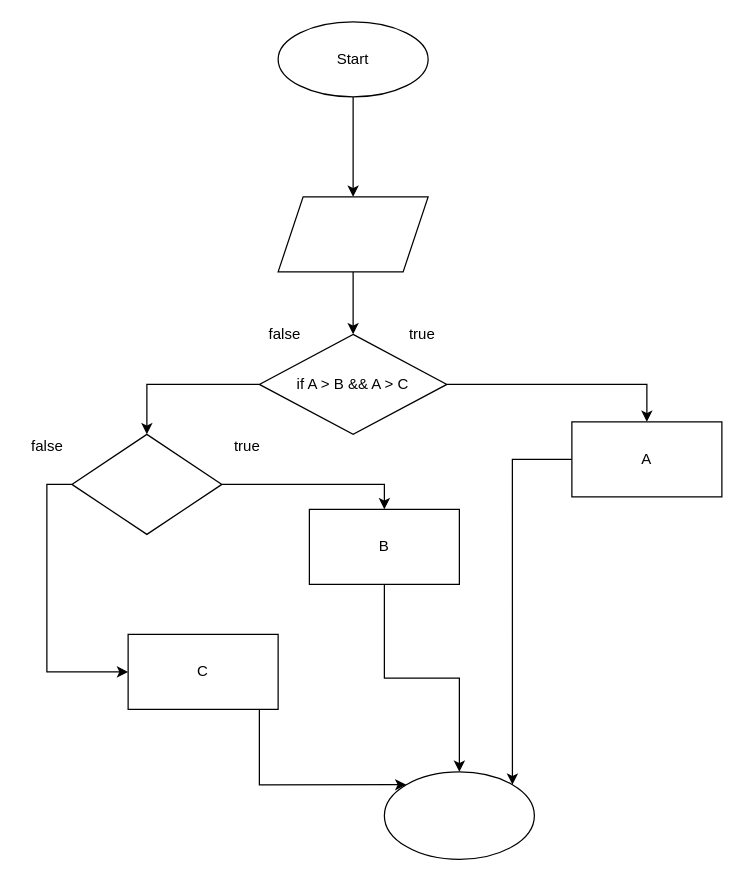
The diagram is 744 pixels wide and 881 high, and some of its shapes have lost their labels. The shapes that lost their labels are listed below. From the top down, each one's centre as x and y in pixels, then its label:
At (x=352, y=234): "input A ,B, C".
At (x=146, y=483): "if B > C".
At (x=458, y=815): "stop".
